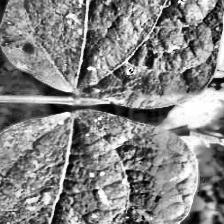ALS: (0, 0, 224, 99), (0, 111, 194, 224)
